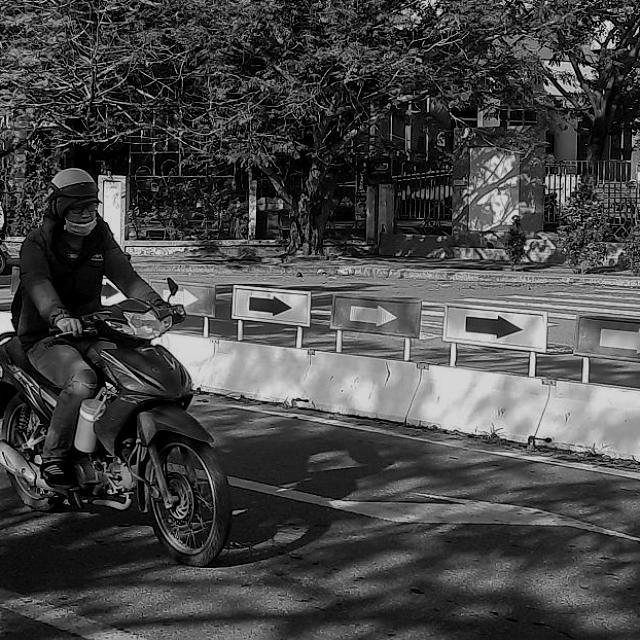Helmet: (44, 166, 106, 240)
